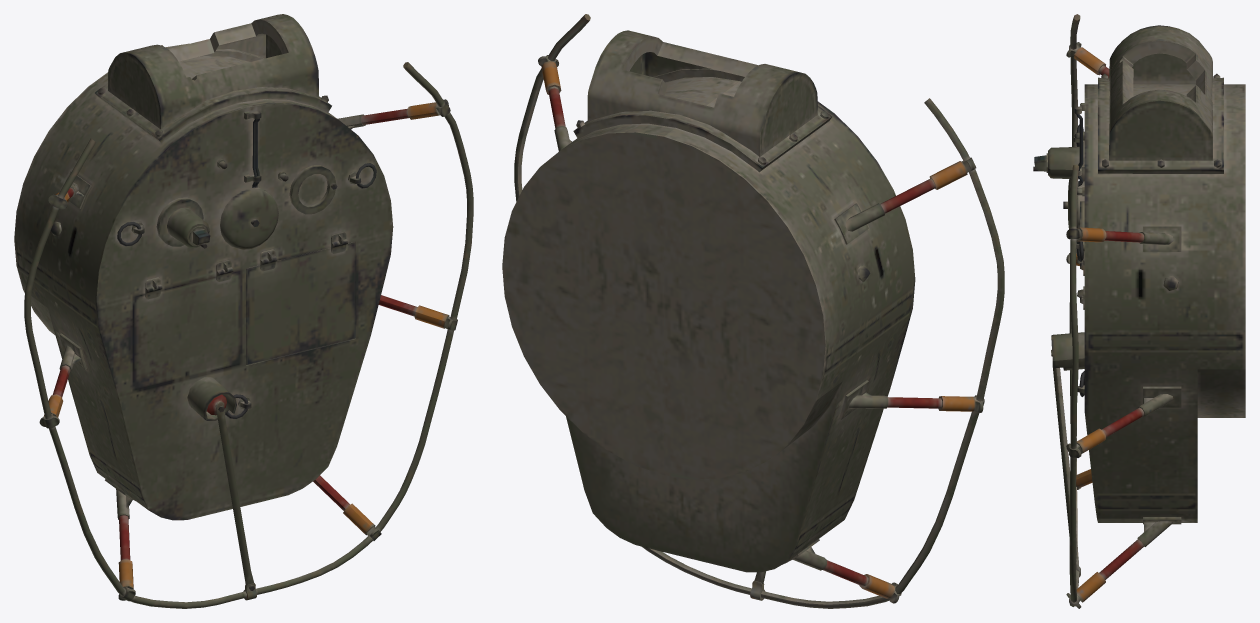
The model's file is Turret_01.glb.
3 views of the same model, side by side, from view 1: azimuth 30°, elevation 25°; view 2: azimuth 150°, elevation 25°; view 3: azimuth 270°, elevation 25° (orthographic). The views are drawn at different scales.
Visible parts, largest first — view 1: set_0_group_0; view 2: set_0_group_0; view 3: set_0_group_0.
Part boxes in pixels (x1=…): set_0_group_0: x1=14, y1=14, x2=473, y2=608; set_0_group_0: x1=502, y1=14, x2=1004, y2=608; set_0_group_0: x1=1033, y1=14, x2=1245, y2=608.
Bounding box in the file's own units: 2 × 2.24 × 0.8352.
1 material, 1 textured.
